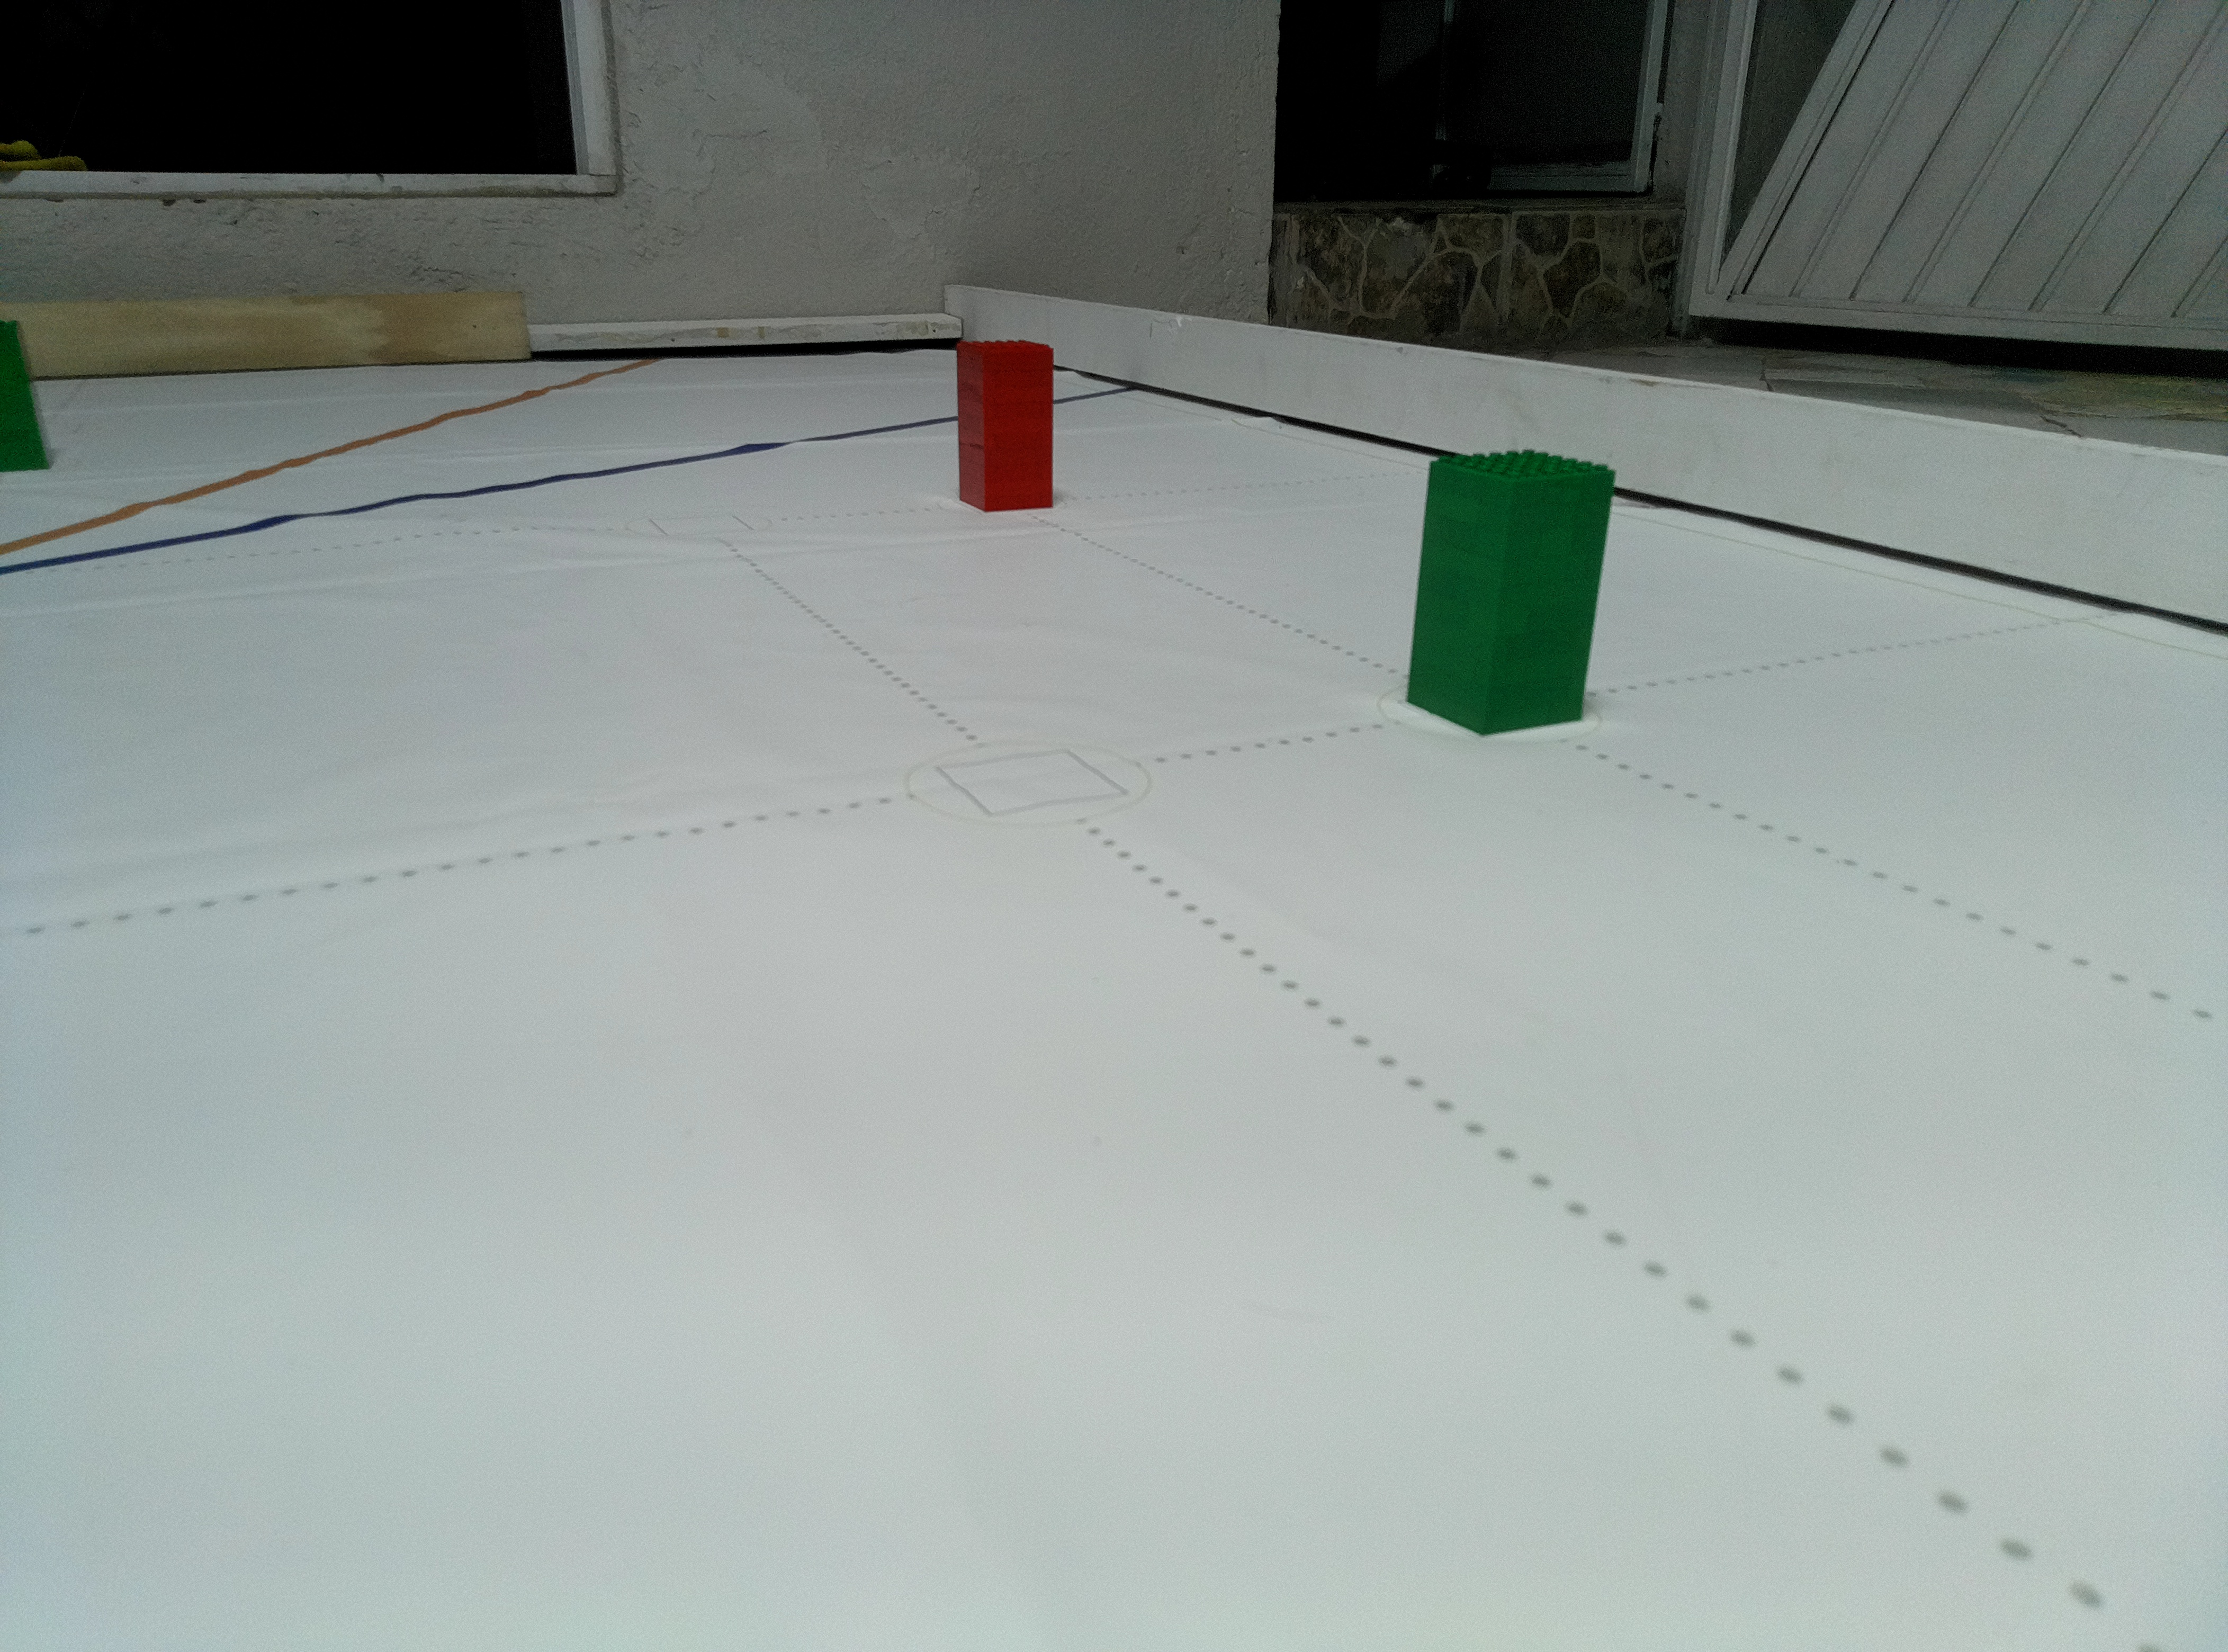greenbox: (1400, 448, 1619, 737), (0, 319, 54, 474)
redbox: (954, 338, 1057, 514)
